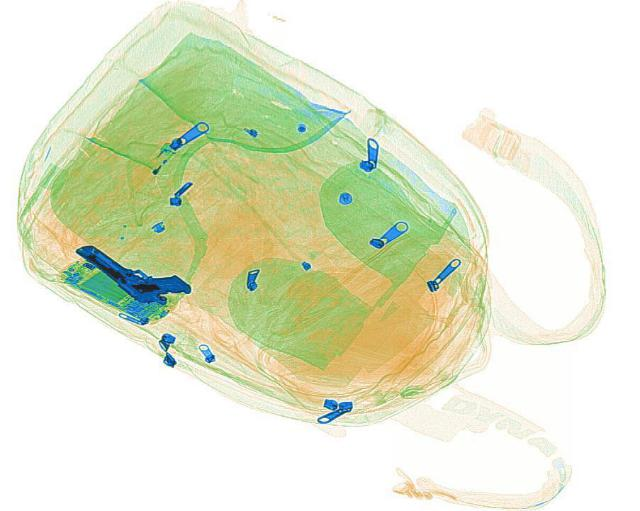Gun: (66, 224, 196, 315)
